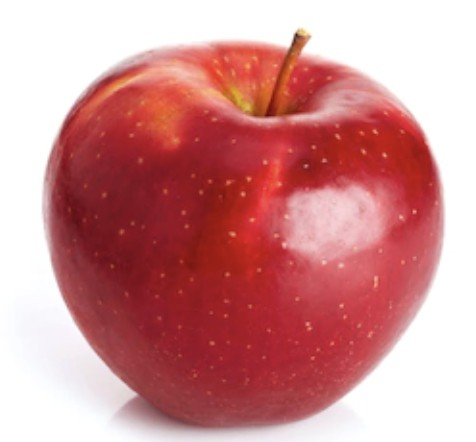fresh_apple: (42, 38, 445, 424)
